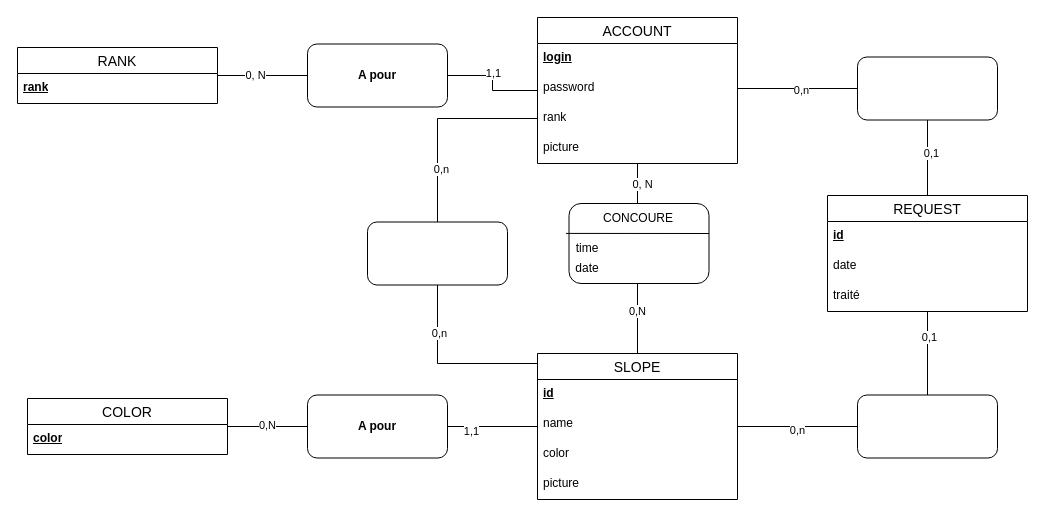
This 1045x520 diagram has some shape labels left out. The shapes that lost their labels are listed below. From the top down, each one's centre as x and y in pixels, then its label:
At (x=927, y=88): "Effectue".
At (x=437, y=253): "responsable".
At (x=927, y=426): "Se déroule".
